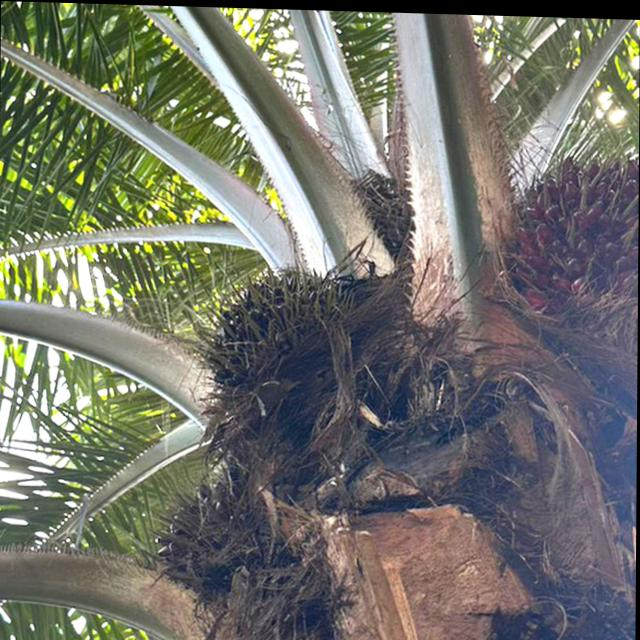unripe: (189, 256, 376, 420)
